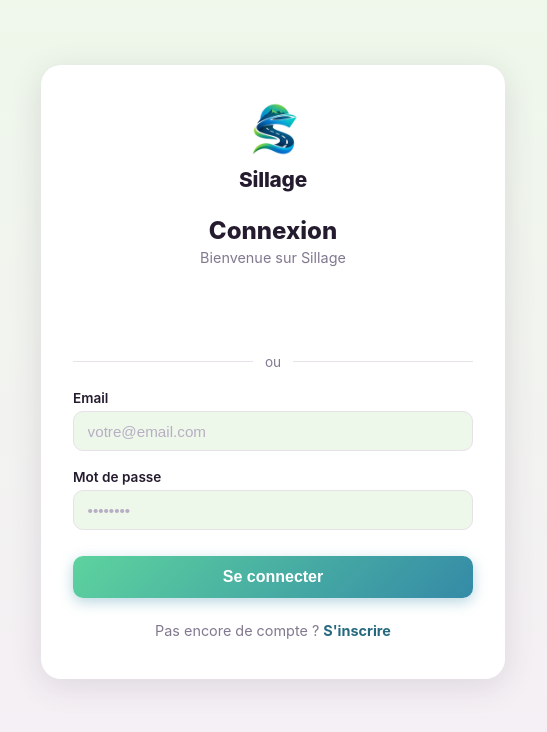
Login — erreurs › affiche un message générique si l'API ne renvoie pas de détail
Type "alice@test.com" into the field labelled "Email". click: [273, 431]
box: [73,411,473,451]
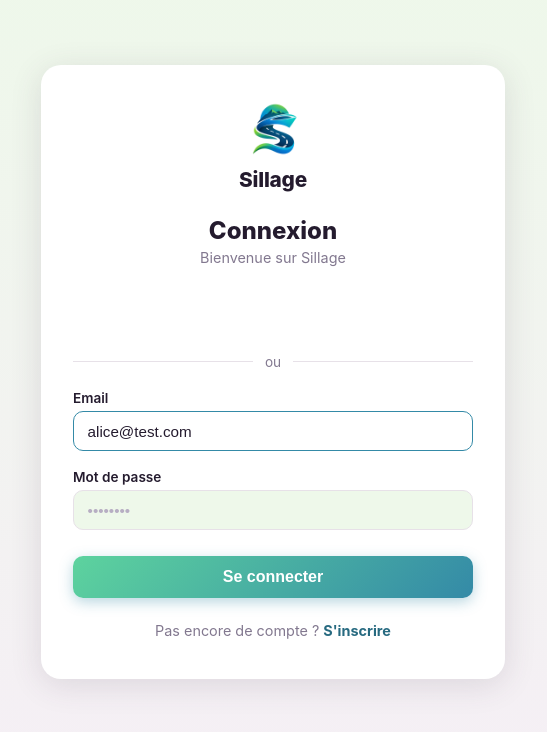
Type "pass" into the password field labelled "Mot de passe". click: [273, 510]
box: [73,490,473,530]
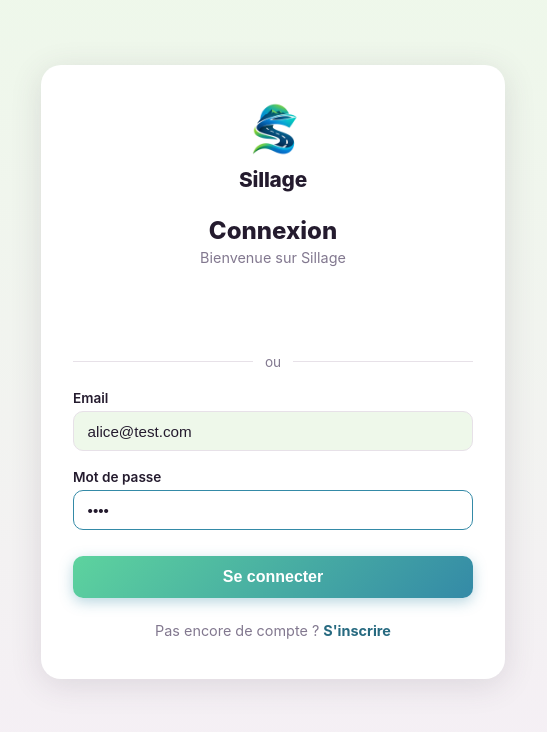
Click the button "Se connecter". click: [273, 577]
box: [73,556,473,598]
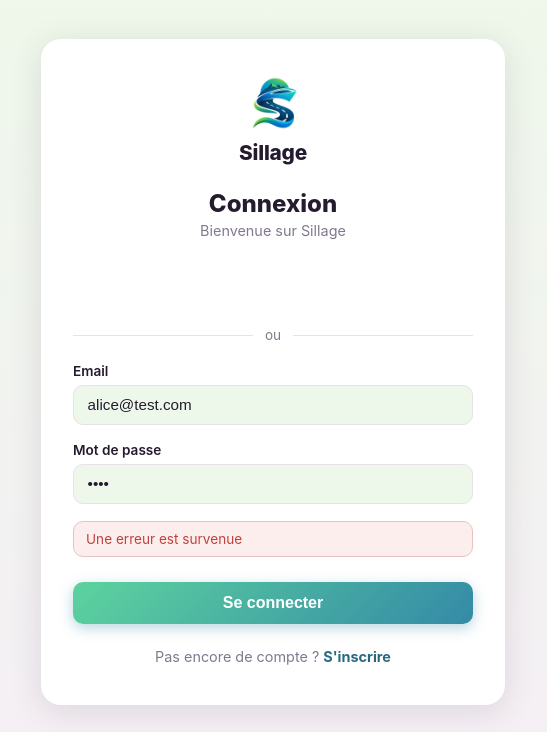
Now the text "Une erreur est survenue" is shown, box [73,521,473,557]
